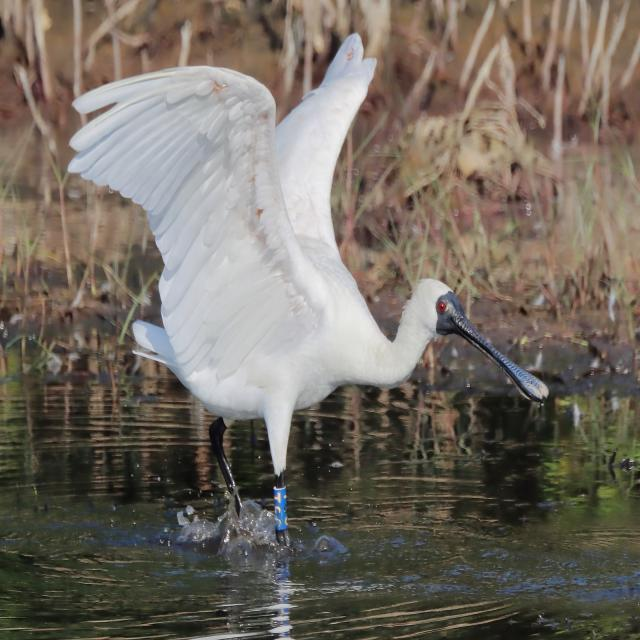Black-faced spoonbill: (69, 35, 547, 543)
